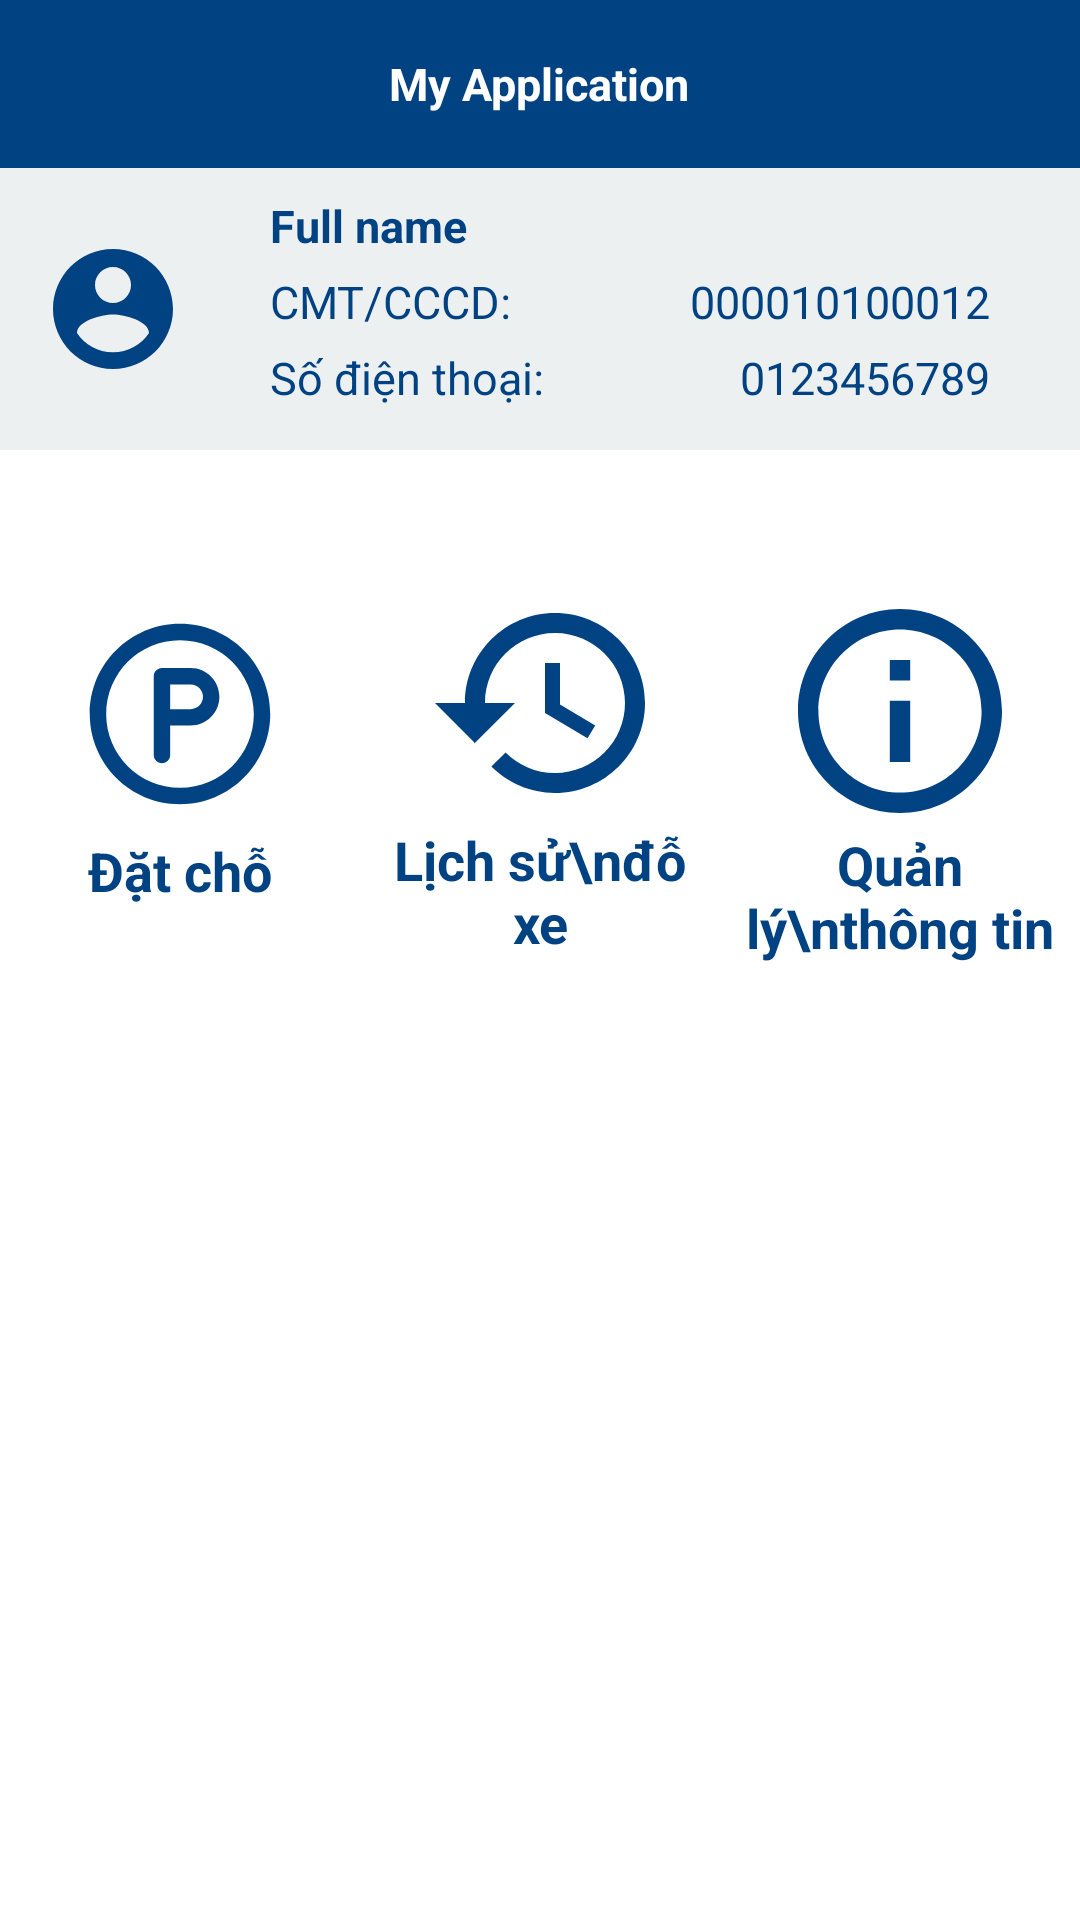

Icon bounding boxes for this 1080 x 1920 phone screenshot, format [x1,y1,x2,y2]:
info: [798,609,1002,813]
parking: [89,623,271,805]
